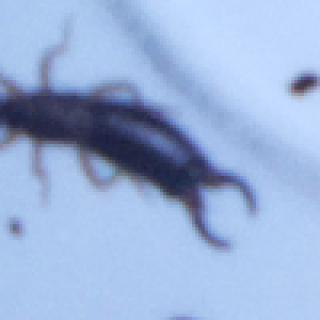earwig: (0, 20, 261, 255)
